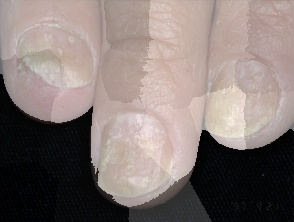Nail_psoriasis: (174, 22, 294, 164), (81, 95, 197, 222), (7, 10, 105, 100)
